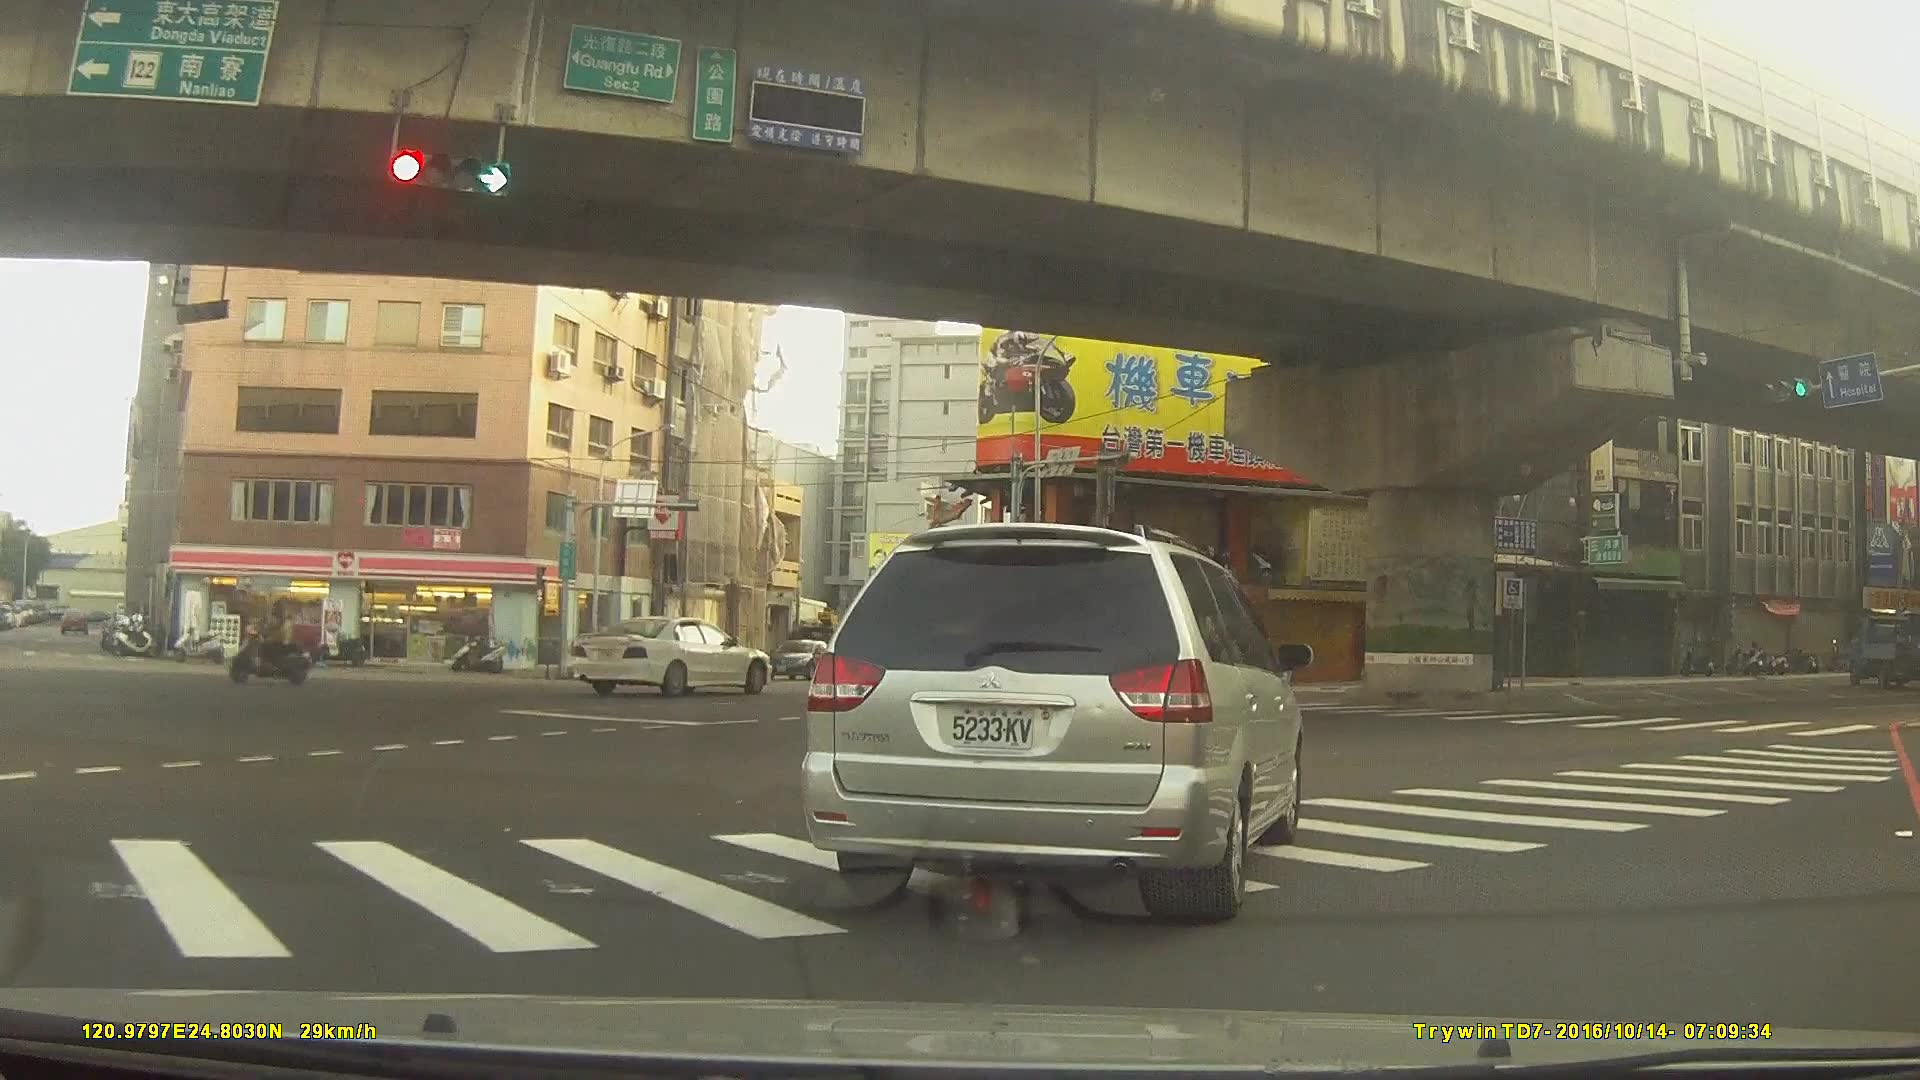rider: (230, 598, 310, 684)
vehicle: (796, 523, 1303, 930), (566, 613, 772, 699), (1841, 616, 1920, 687), (768, 637, 842, 679), (59, 608, 90, 634)
